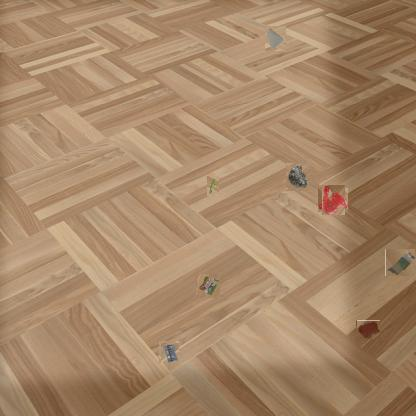dirty: (386, 248, 416, 277), (286, 163, 310, 191), (196, 274, 220, 298), (264, 25, 286, 51), (160, 342, 180, 364), (207, 176, 219, 196)
liquid: (320, 186, 347, 214), (356, 320, 380, 339)
